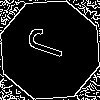J: (25, 25, 77, 64)
